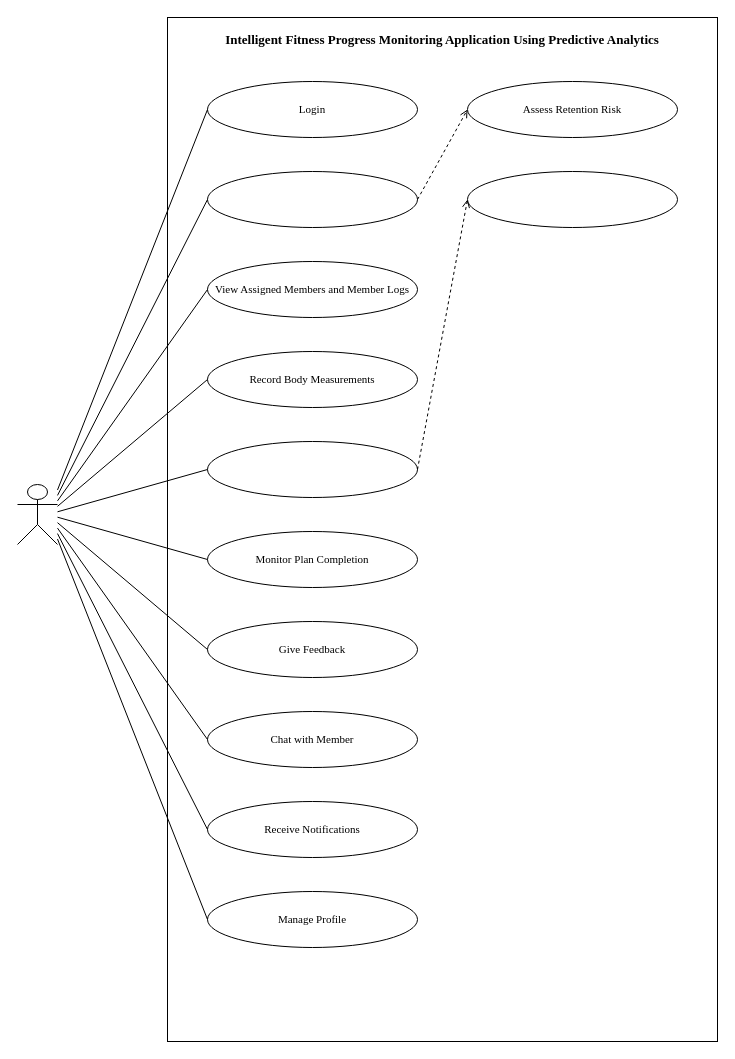
The diagram is 735 pixels wide and 1059 high, and some of its shapes have lost their labels. The centre of each missing label's shape, as x and y in pixels:
"Create 7-Day Food and Exercise Plan" belongs at point (312, 469).
"Search MET Exercise Catalog" belongs at point (572, 199).
"Trainer" belongs at point (37, 514).
"View Trainer Dashboard with Retention Risk" belongs at point (312, 199).
